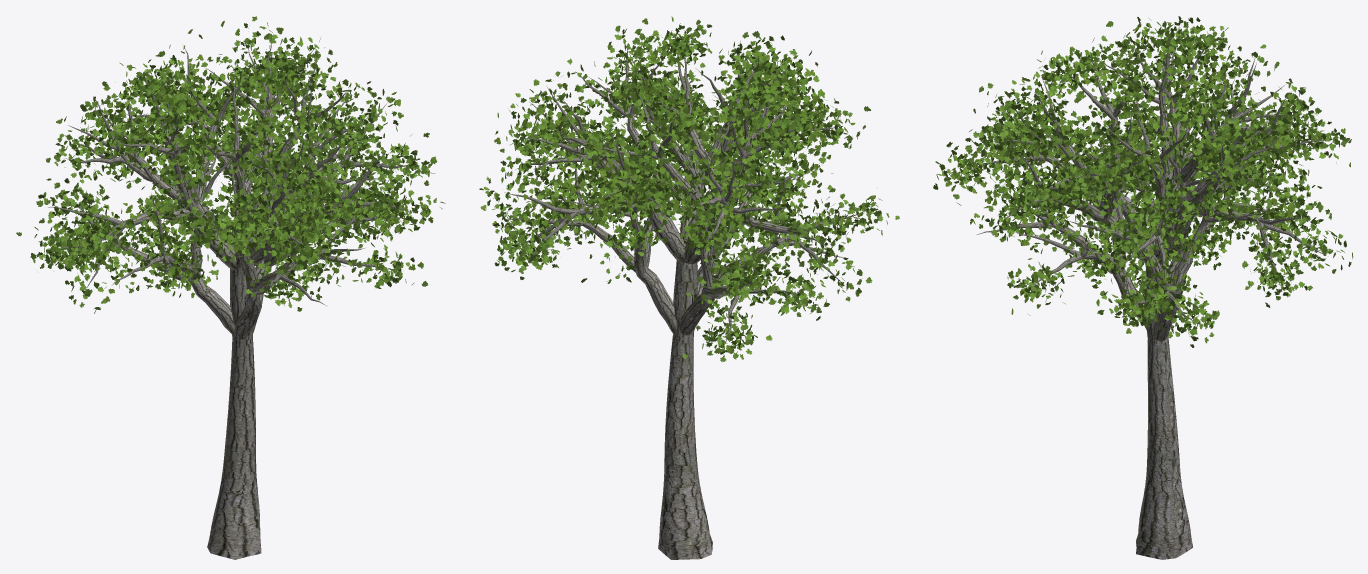
3 views of the same model, side by side, from view 1: azimuth 30°, elevation 25°; view 2: azimuth 150°, elevation 25°; view 3: azimuth 270°, elevation 25° (orthographic).
Parts seen in each view (by area): view 1: Fresno foliage cards, Fresno_EasyTree_V020_Proof; view 2: Fresno foliage cards, Fresno_EasyTree_V020_Proof; view 3: Fresno foliage cards, Fresno_EasyTree_V020_Proof.
Boxes of the visible parts, left/top/right/bottom form: Fresno foliage cards: left=16, top=16, right=445, bottom=313; Fresno_EasyTree_V020_Proof: left=48, top=36, right=418, bottom=559; Fresno foliage cards: left=479, top=16, right=899, bottom=362; Fresno_EasyTree_V020_Proof: left=504, top=41, right=858, bottom=559; Fresno foliage cards: left=933, top=16, right=1353, bottom=347; Fresno_EasyTree_V020_Proof: left=970, top=30, right=1326, bottom=559.
Size of the model in its own units: 7.68 by 9.5 by 7.21.
Materials: 2 (2 with a texture image).
